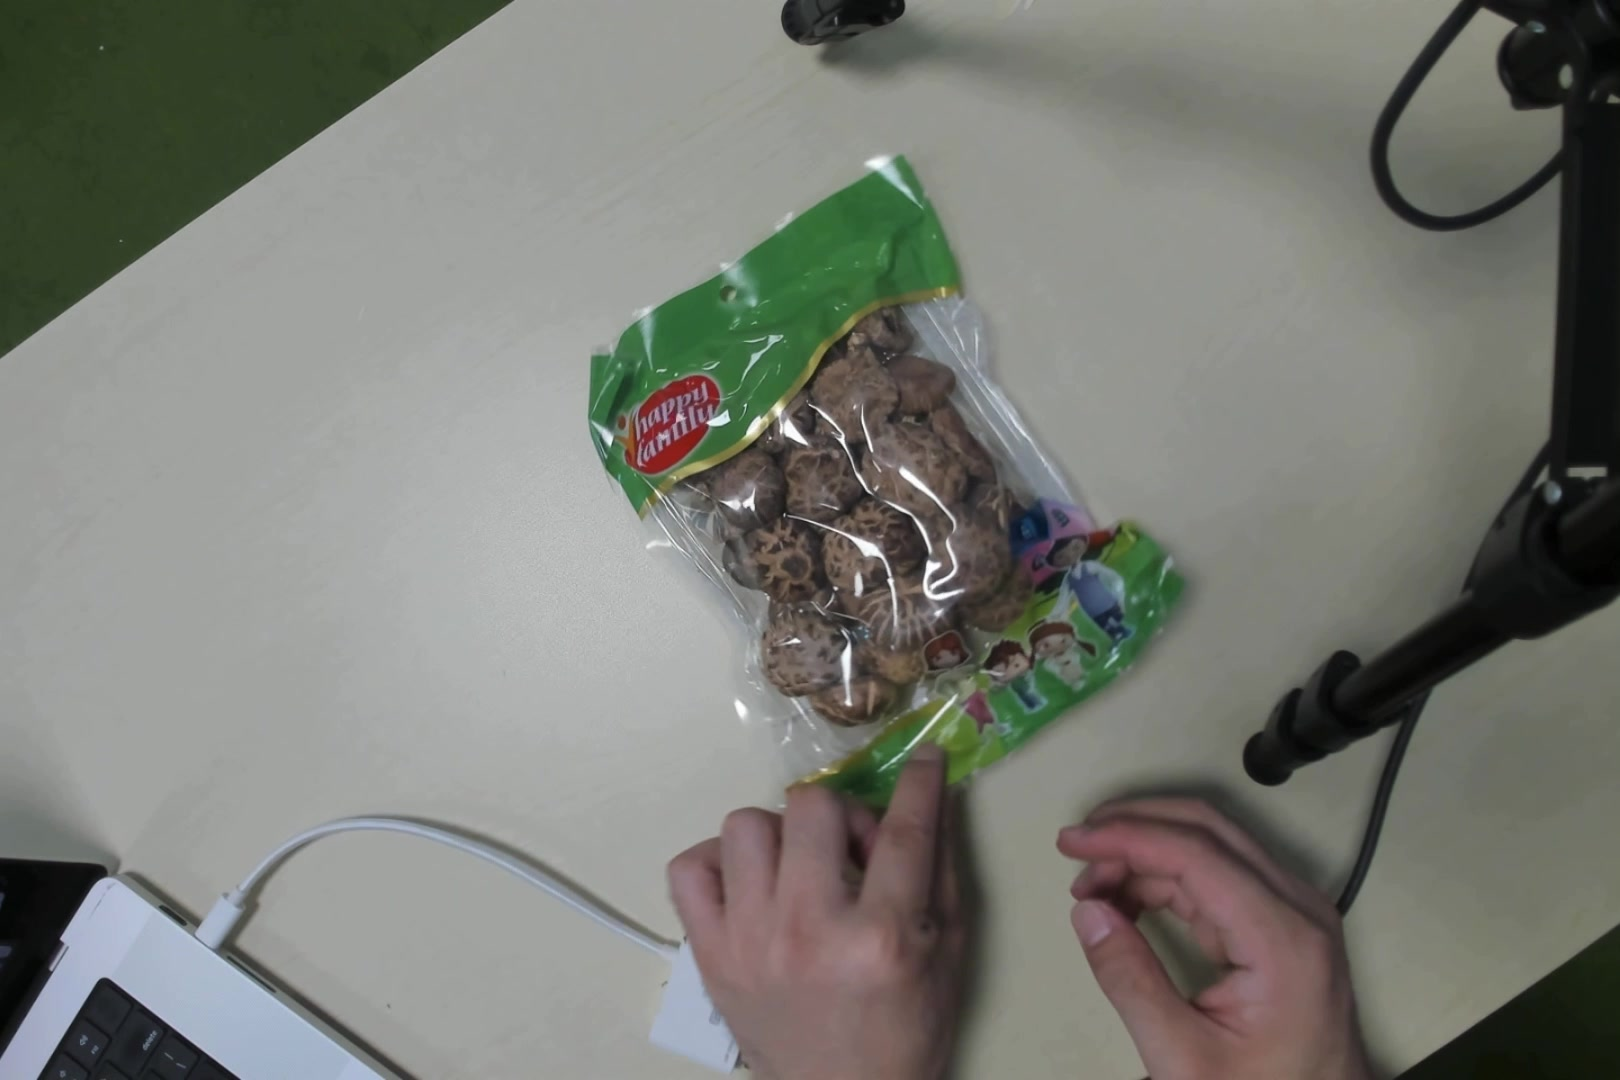OtherDriedFood_100-199g_NonHalal_NonHealthy: (652, 235, 1109, 765)
